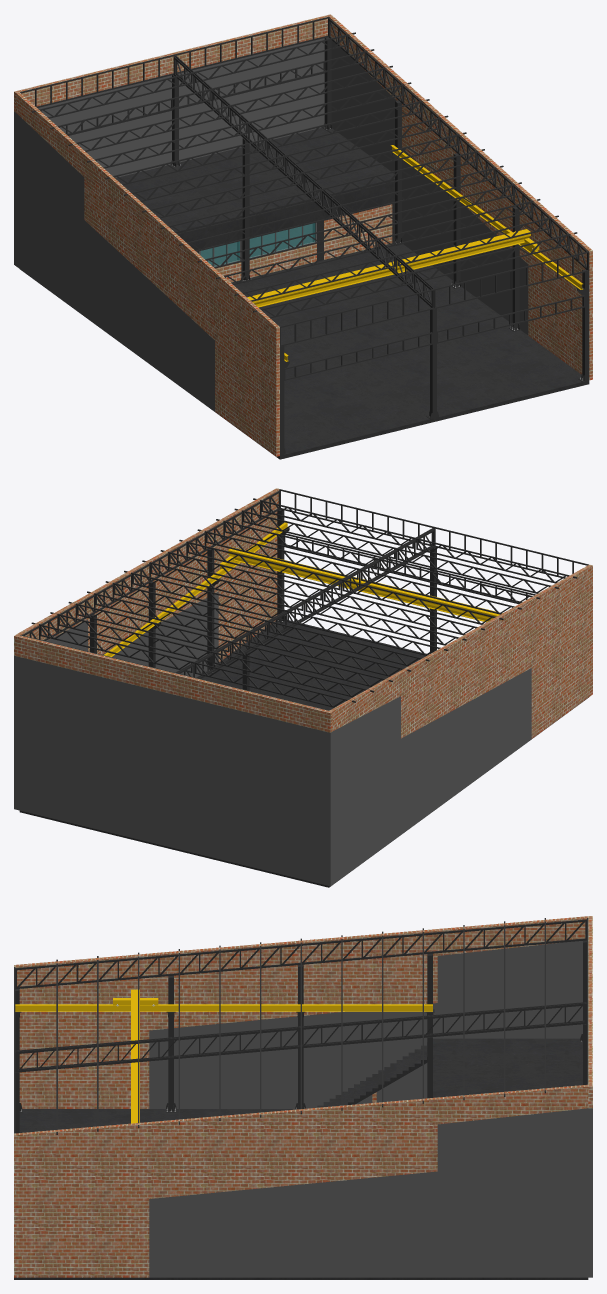
Rendered from factory.glb.
3 renders of one model, top to bottom at view 1: azimuth 30°, elevation 25°; view 2: azimuth 150°, elevation 25°; view 3: azimuth 270°, elevation 25°, orthographic. The views are drawn at different scales.
Parts seen in each view (by area): view 1: fatory; view 2: fatory; view 3: fatory.
Boxes of the visible parts, bbox=[...] form: fatory: bbox=[14, 14, 592, 459]; fatory: bbox=[14, 488, 592, 887]; fatory: bbox=[14, 916, 592, 1279].
Bounding box in the file's own units: 18.3 × 9.56 × 25.7.
Materials: 8 (2 with a texture image).
